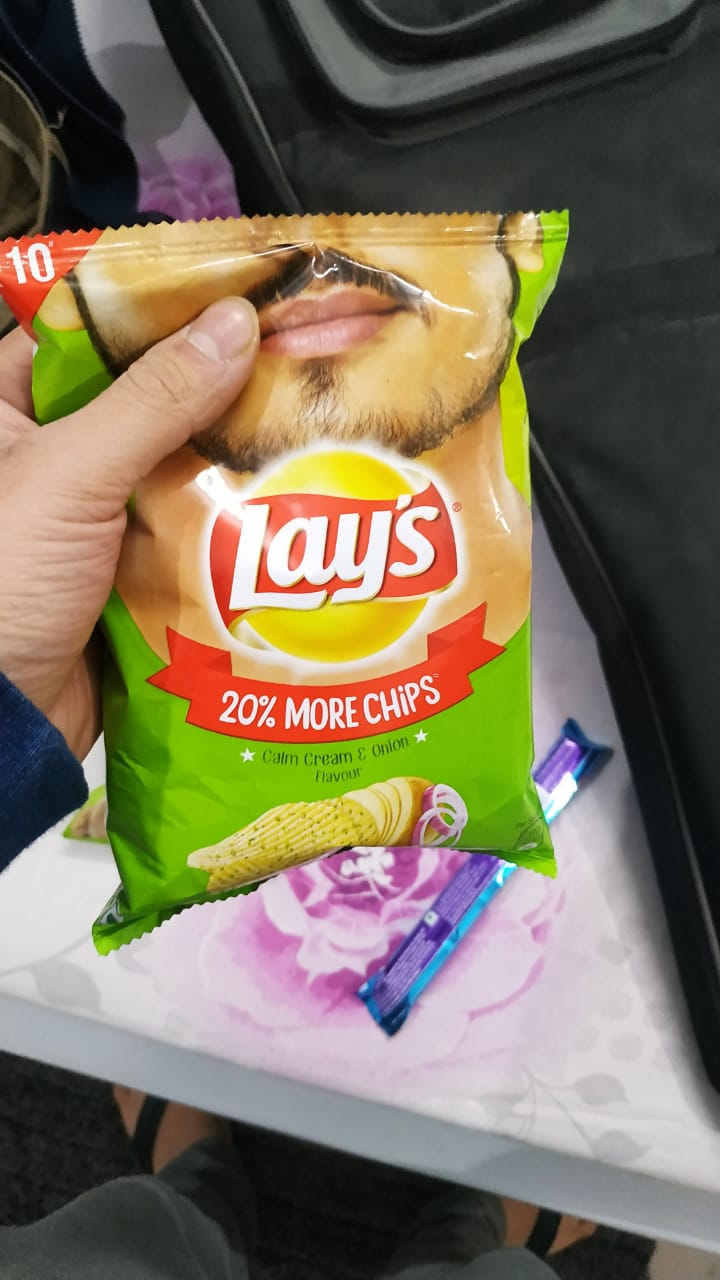lays chips: (1, 206, 576, 919)
perk: (337, 733, 692, 1041)
